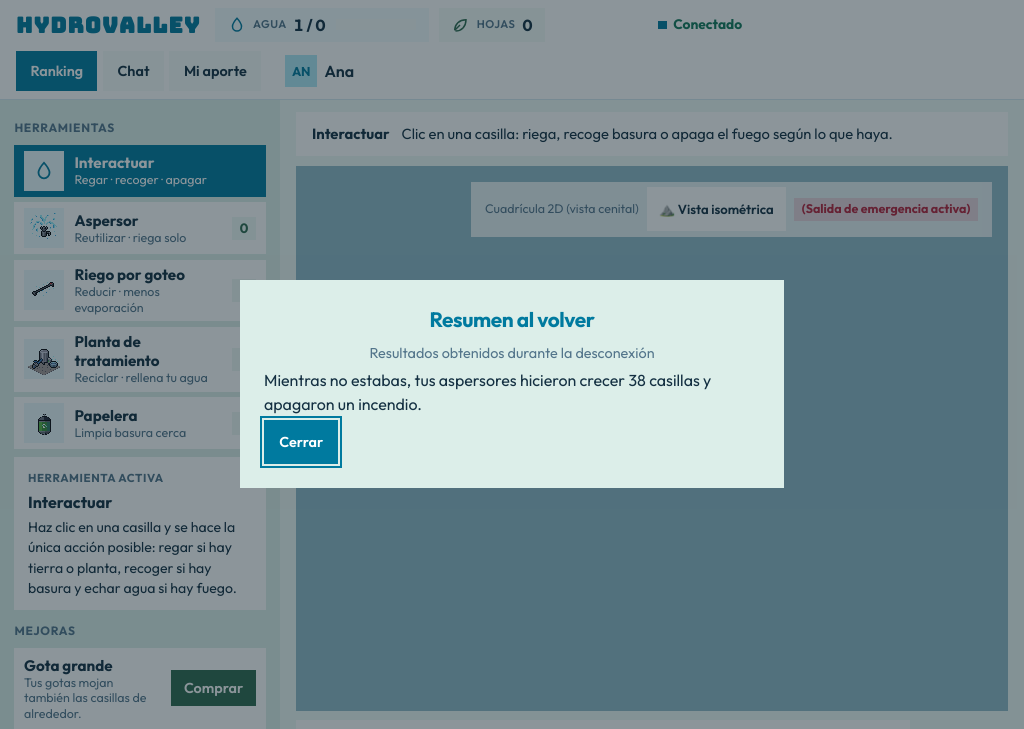
GameApp › offline summary › shows the summary of the first state and hides it when closed
The image size is (1024, 729).
Expected: the text "Mientras no estabas, tus aspersores hicieron crecer 38 casillas y apagaron un incendio." is shown, [264,370,711,414]
Click the button "Cerrar": (301, 442) [264,420,338,464]
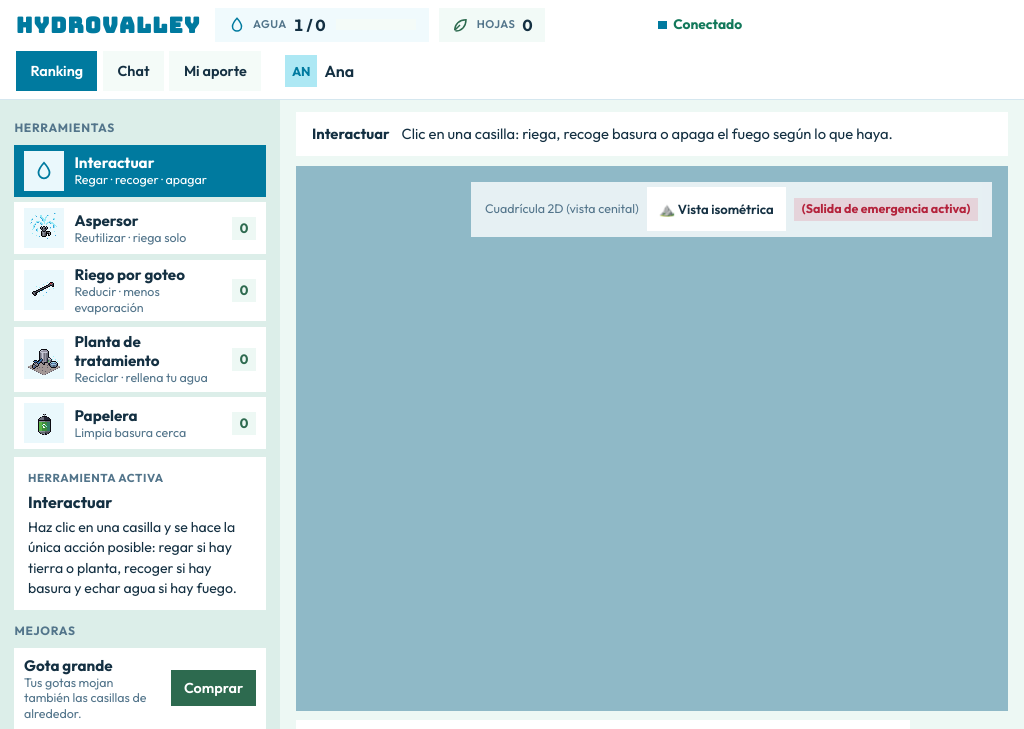
Result: the text "Mientras no estabas" is gone
